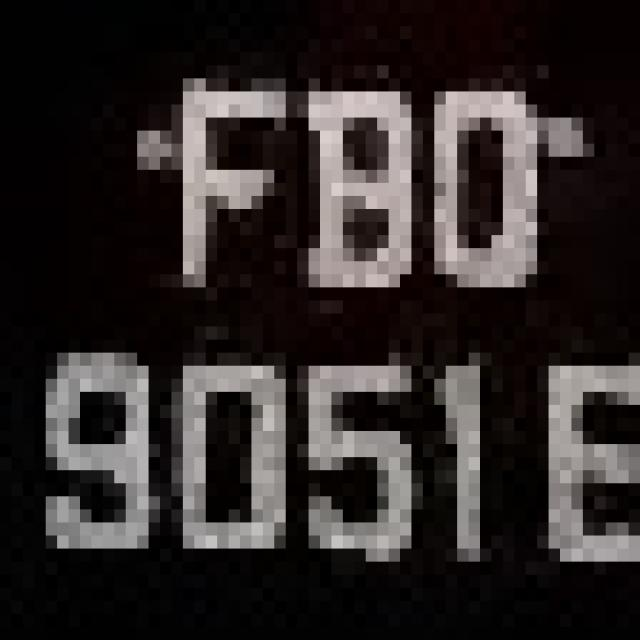0: (400, 40, 571, 288), (160, 300, 274, 575)
1: (400, 314, 480, 562)
5: (286, 314, 434, 562)
9: (23, 314, 160, 574)
B: (286, 52, 434, 327)
E: (538, 353, 640, 578)
F: (126, 26, 286, 327)
